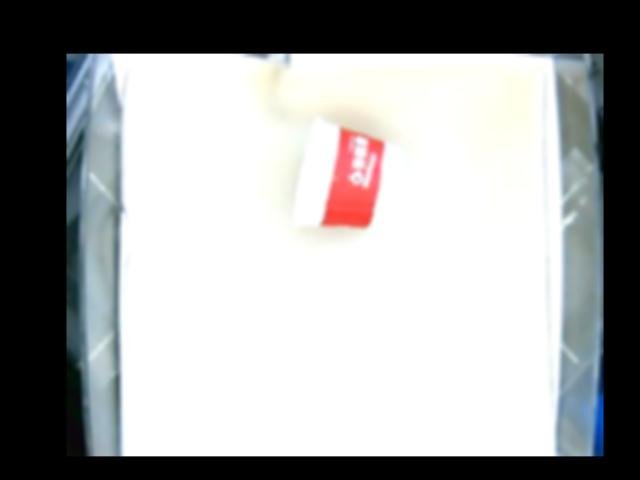Cup: (292, 115, 403, 228)
